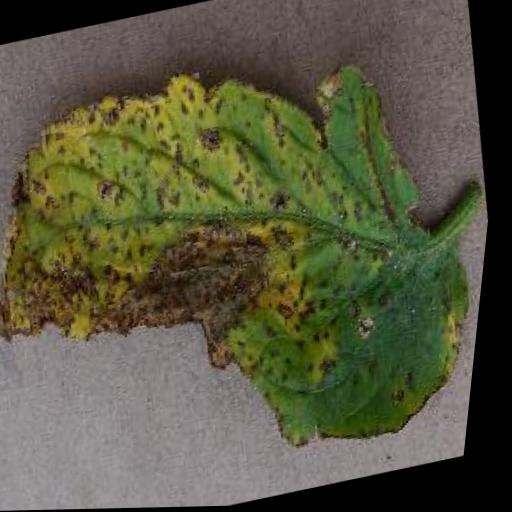Bacterial Spot: (0, 17, 510, 512)
